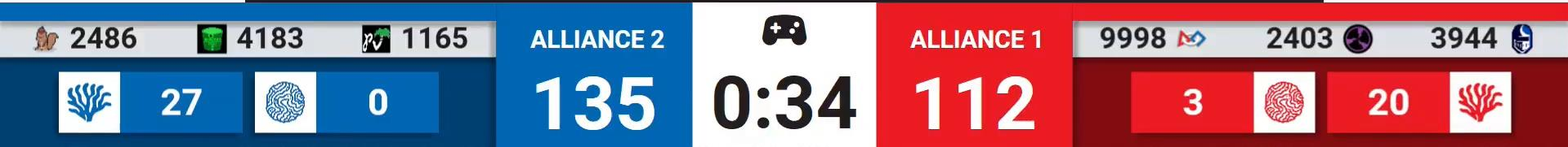blue_score: (530, 72, 661, 137)
red_score: (911, 71, 1040, 135)
team_number: (1256, 22, 1339, 57), (1424, 23, 1505, 55), (233, 22, 307, 56), (63, 22, 141, 54), (1094, 23, 1171, 55), (399, 25, 474, 52)
timer: (710, 69, 861, 135)
